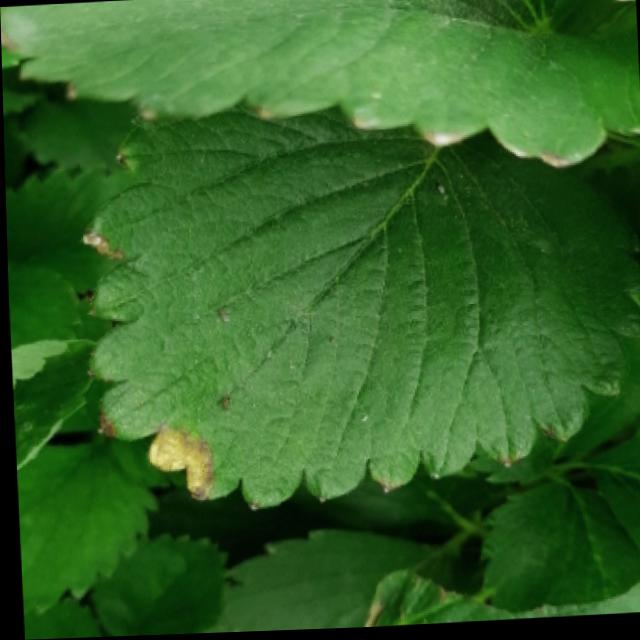Powdery Mildew Leaf: (8, 334, 94, 474)
